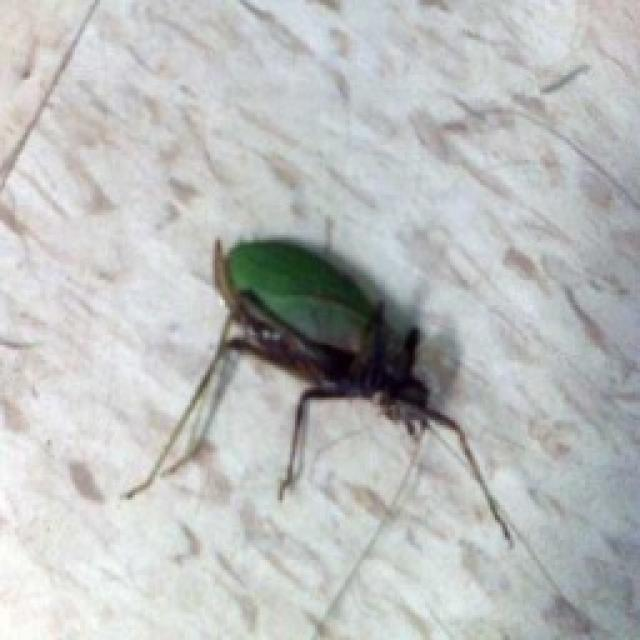cockroach: (131, 162, 550, 576)
